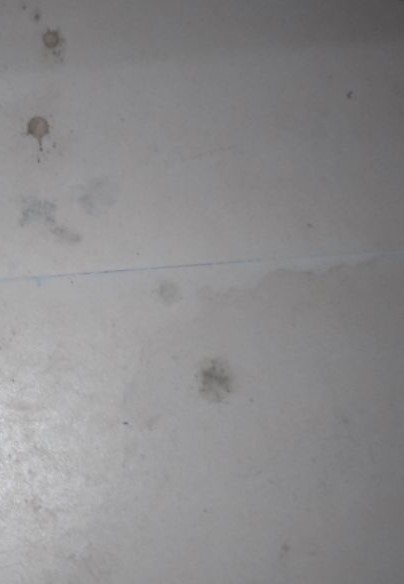grey spot: (199, 358, 231, 399), (27, 117, 50, 152), (42, 30, 60, 49)
